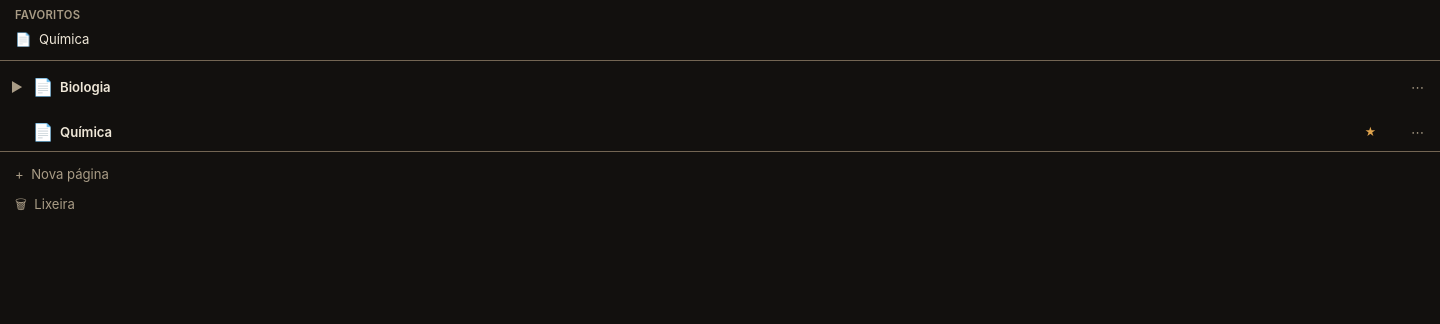
it: PageTree › FUN-009: 'Remover dos favoritos' no menu de contexto tira da seção sem apagar a página
Expected: the element "Favoritos" is shown, [0,8,1439,61]
Click the button named "Mais ações para Química" at {"x": 1418, "y": 132}, box [1406,121,1429,144]
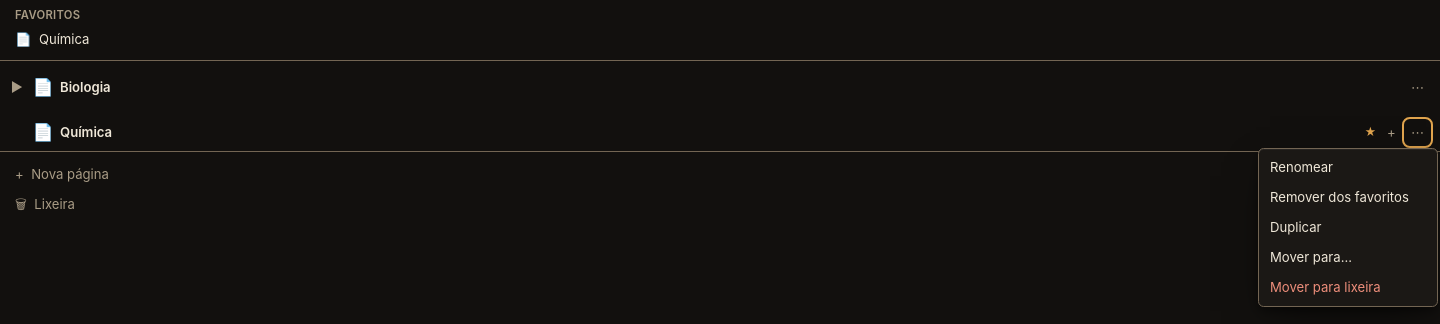
Click the menu item "Remover dos favoritos" at {"x": 1348, "y": 197}, box [1262,182,1433,212]
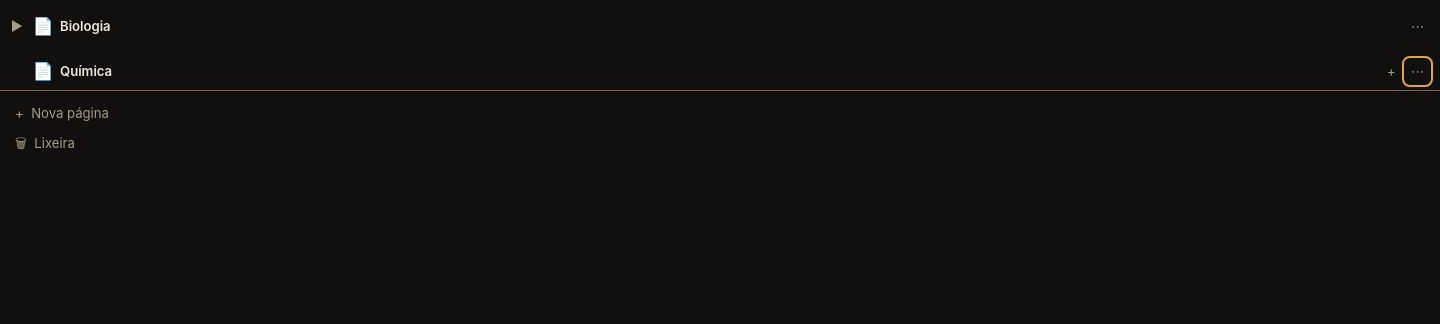
Expected: the heading "Favoritos" is gone
